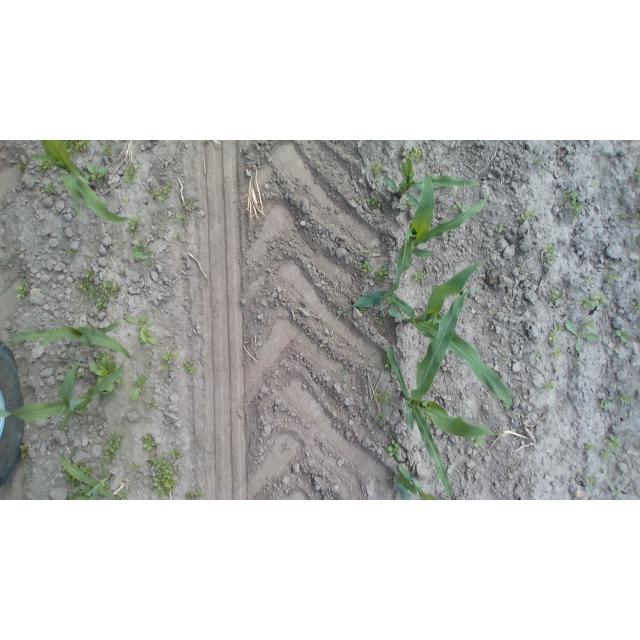Maize: (335, 170, 489, 323), (380, 257, 513, 413), (385, 344, 503, 499), (1, 355, 126, 433), (28, 141, 141, 223), (383, 158, 480, 211), (1, 321, 132, 359), (59, 452, 113, 500), (396, 463, 439, 500)
Weeds: (77, 268, 120, 311), (149, 455, 178, 499), (565, 320, 599, 353), (125, 313, 158, 346), (88, 351, 118, 377), (82, 162, 110, 189), (104, 431, 125, 463), (562, 189, 584, 216), (579, 291, 610, 310), (131, 242, 154, 267), (129, 375, 148, 401), (149, 183, 174, 201), (123, 161, 141, 185), (159, 350, 178, 372), (65, 141, 92, 156), (517, 206, 538, 224), (374, 265, 390, 286), (75, 460, 94, 477), (16, 277, 31, 298), (375, 389, 393, 406), (127, 214, 142, 234), (544, 241, 557, 264), (545, 287, 563, 303), (606, 434, 623, 450), (179, 198, 196, 214), (386, 440, 401, 458), (366, 196, 383, 211), (181, 358, 199, 372), (408, 146, 423, 162), (370, 161, 386, 176), (605, 270, 620, 286), (141, 433, 156, 449), (412, 269, 429, 283), (184, 487, 205, 498), (37, 160, 56, 172), (103, 142, 114, 159), (615, 330, 629, 343), (45, 182, 59, 195), (374, 412, 389, 424), (371, 312, 384, 325), (359, 260, 372, 273), (469, 437, 485, 447), (18, 444, 28, 460), (336, 366, 349, 378), (65, 246, 78, 258), (619, 393, 633, 404), (382, 354, 391, 371), (547, 332, 559, 344), (584, 319, 596, 330), (177, 212, 188, 224), (615, 210, 628, 220), (71, 481, 82, 492), (600, 448, 612, 458), (611, 486, 621, 498), (170, 448, 182, 458), (583, 276, 596, 285), (551, 348, 562, 358), (533, 348, 543, 359), (502, 353, 513, 363), (587, 475, 598, 485), (16, 160, 26, 171), (102, 484, 111, 496), (116, 375, 124, 388), (118, 418, 128, 428), (601, 400, 612, 409), (585, 441, 596, 450), (145, 401, 156, 410), (453, 202, 463, 211), (424, 413, 433, 423), (129, 460, 138, 470), (115, 493, 127, 500), (635, 167, 640, 182), (545, 381, 553, 390), (535, 159, 545, 166), (632, 302, 640, 310), (554, 322, 562, 330), (358, 307, 366, 315), (66, 474, 74, 482), (52, 209, 60, 217), (68, 449, 74, 459), (404, 200, 412, 207), (497, 225, 504, 233), (519, 266, 526, 274), (118, 239, 125, 247), (365, 251, 372, 258), (122, 198, 129, 205), (589, 181, 597, 187), (375, 176, 381, 184), (95, 430, 102, 436), (174, 232, 180, 239), (636, 235, 640, 245), (488, 309, 496, 314), (418, 256, 428, 260), (626, 428, 632, 434), (510, 463, 516, 469), (536, 255, 541, 261), (636, 213, 640, 220), (202, 141, 210, 144), (575, 364, 579, 369), (578, 471, 583, 475)
